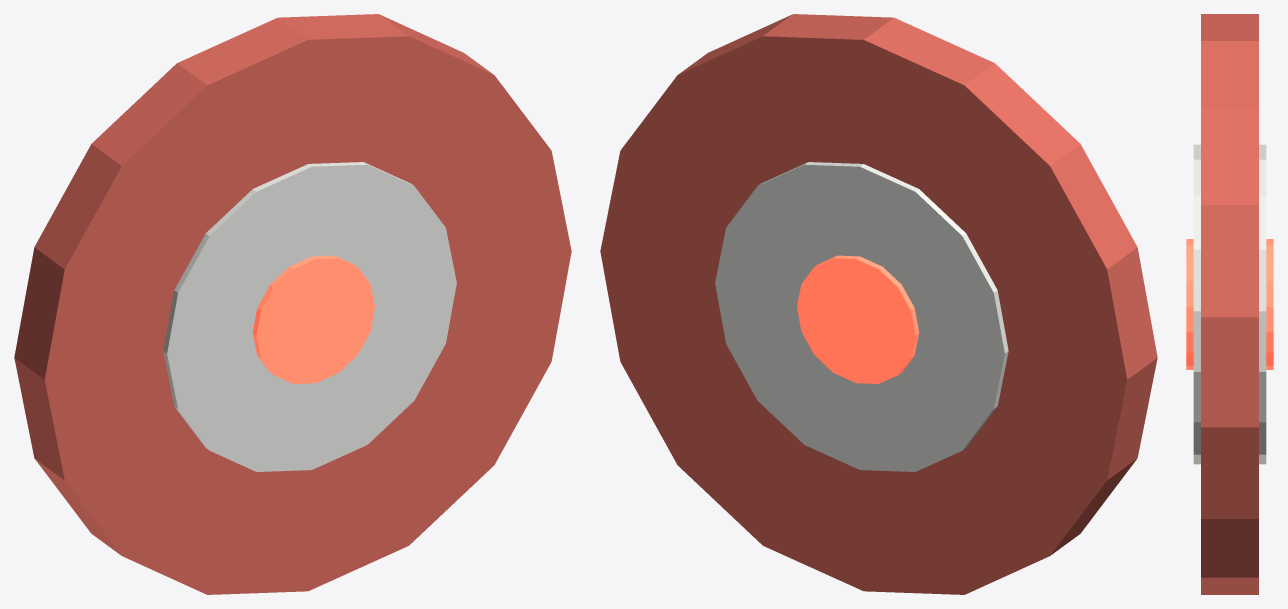
Rendered from training-target.glb.
3 views of the same model, side by side, from view 1: azimuth 30°, elevation 25°; view 2: azimuth 150°, elevation 25°; view 3: azimuth 270°, elevation 25° (orthographic). The views are drawn at different scales.
Parts seen in each view (by area): view 1: training-target; view 2: training-target; view 3: training-target.
Boxes of the visible parts, left/top/right/bottom form: training-target: left=14, top=14, right=571, bottom=594; training-target: left=600, top=14, right=1157, bottom=594; training-target: left=1186, top=14, right=1273, bottom=594.
Size of the model in its own units: 0.8 by 0.8 by 0.12.
